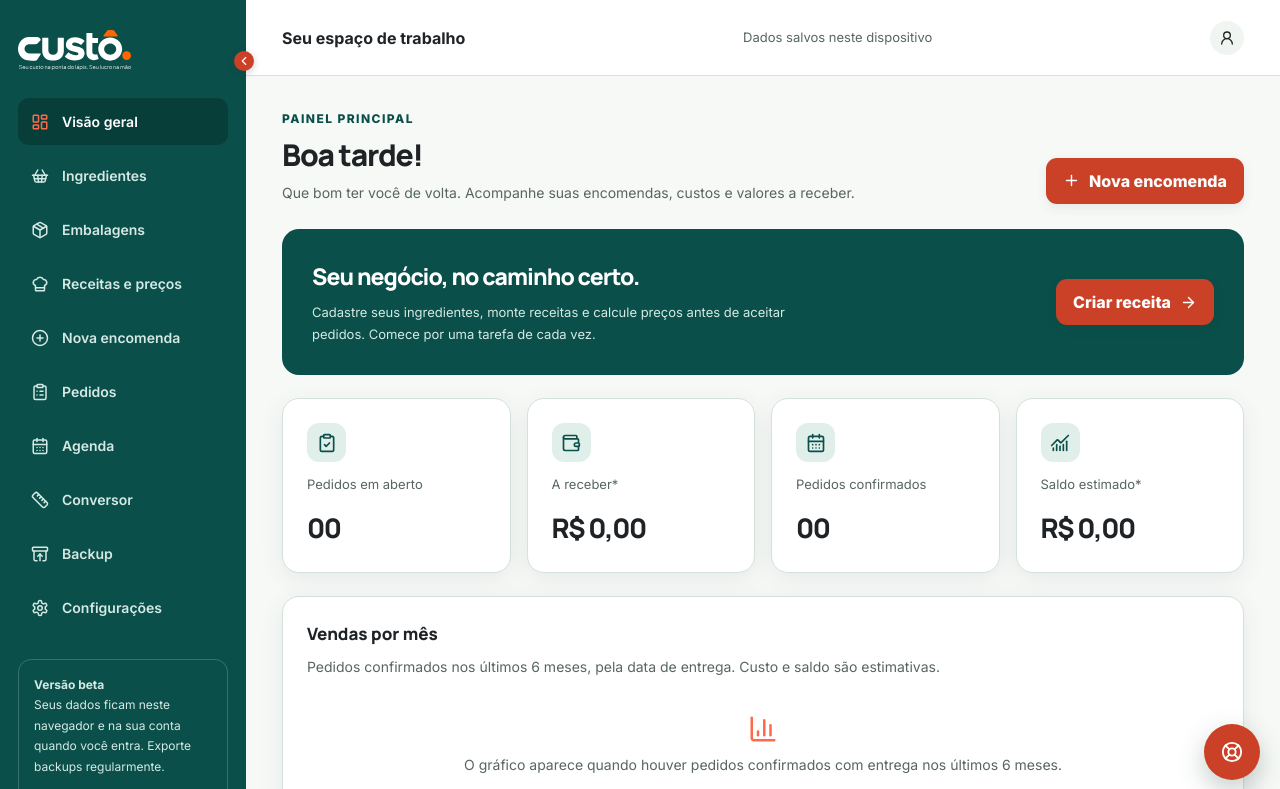
Test: Ingredientes › o botão ⋯ abre Editar/Excluir; Editar abre o formulário com os dados; Esc fecha o menu
Step 1. Click the button "Ingredientes" → (123, 176), box [18,152,228,199]
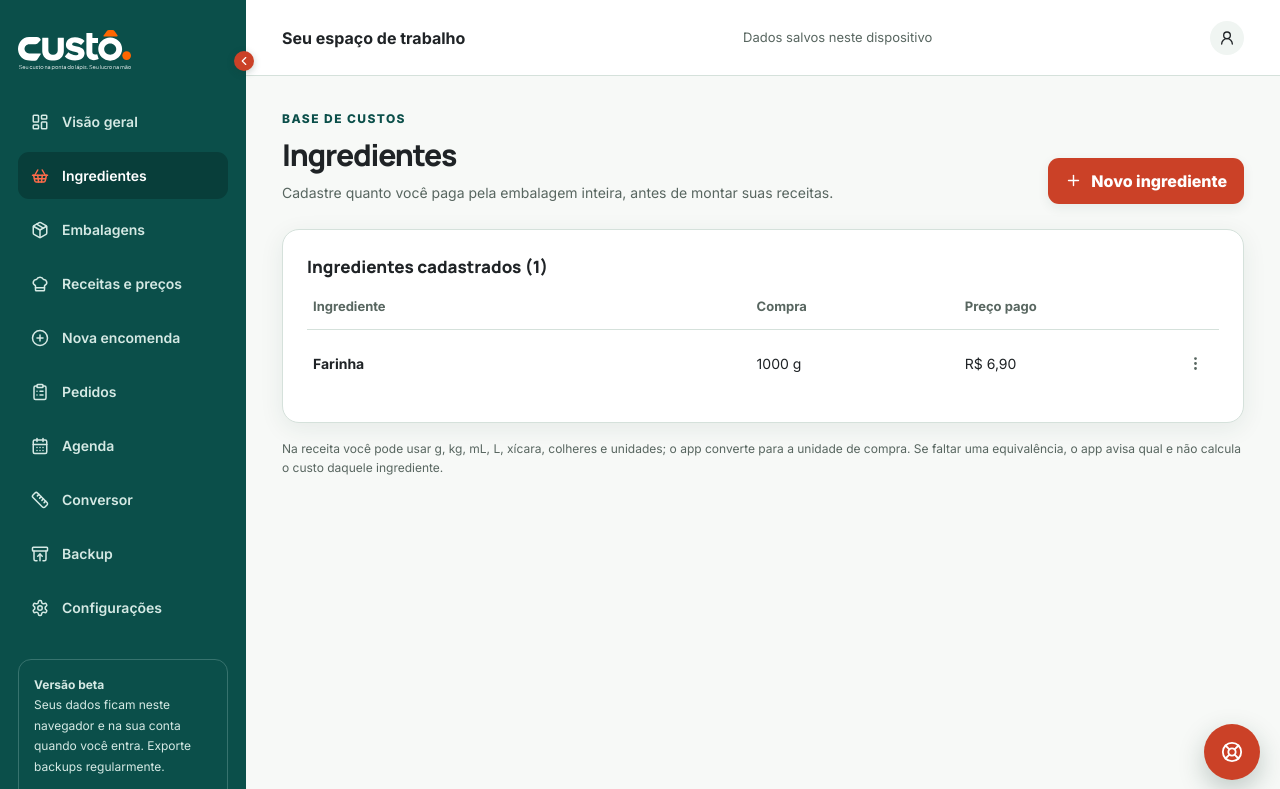
Step 2. Click the button named "Ações de Farinha" → (1195, 364), box [1177,342,1213,386]
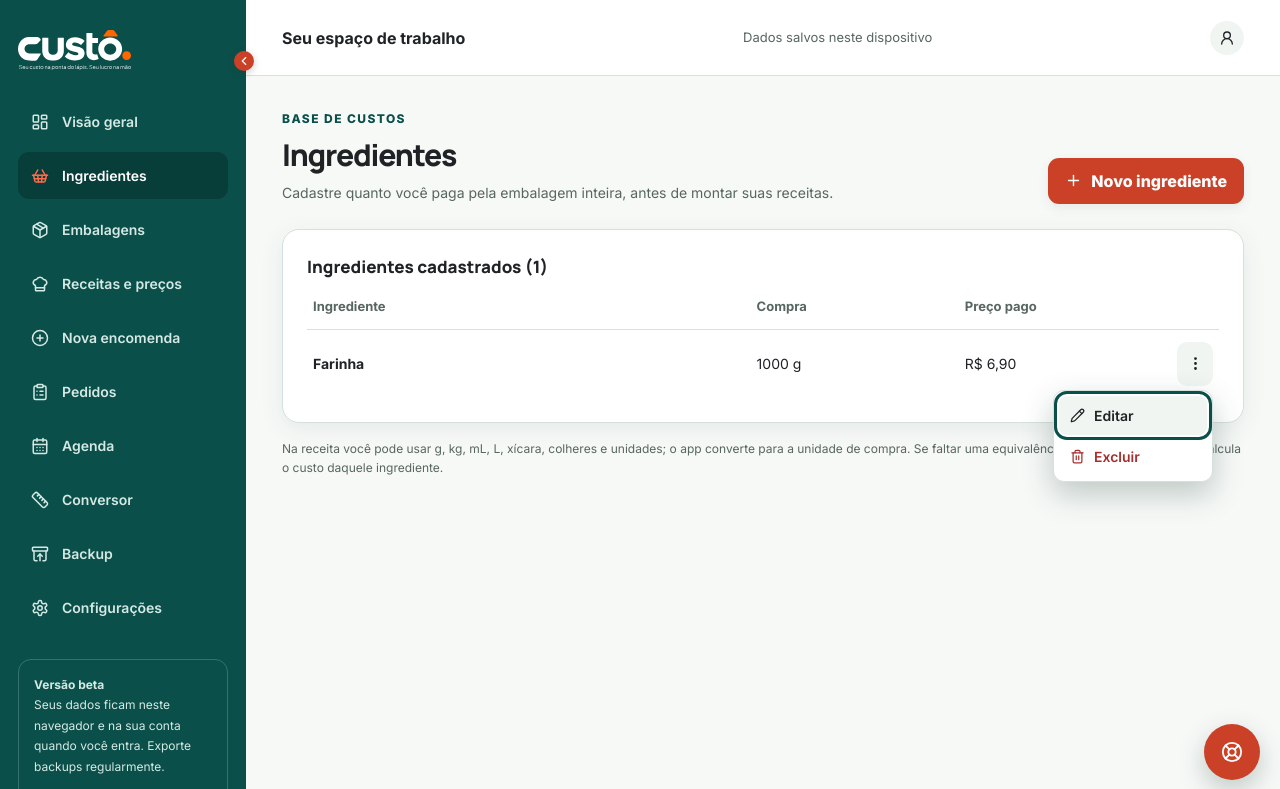
Check: the menu named "Ações de Farinha" is shown, box [1053,390,1213,482]
Step 3. Press Escape
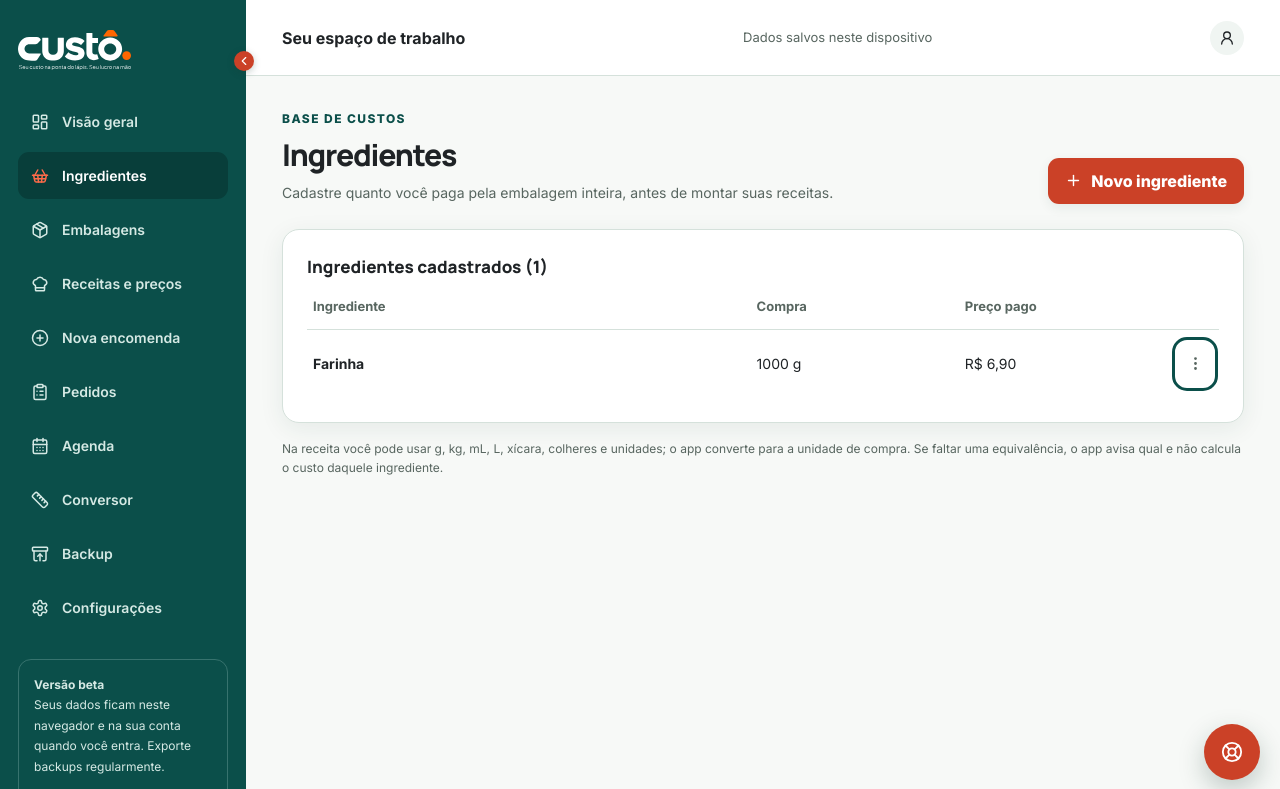
Check: the menu is gone
Step 4. Click the button named "Ações de Farinha" → (1195, 364), box [1177,342,1213,386]
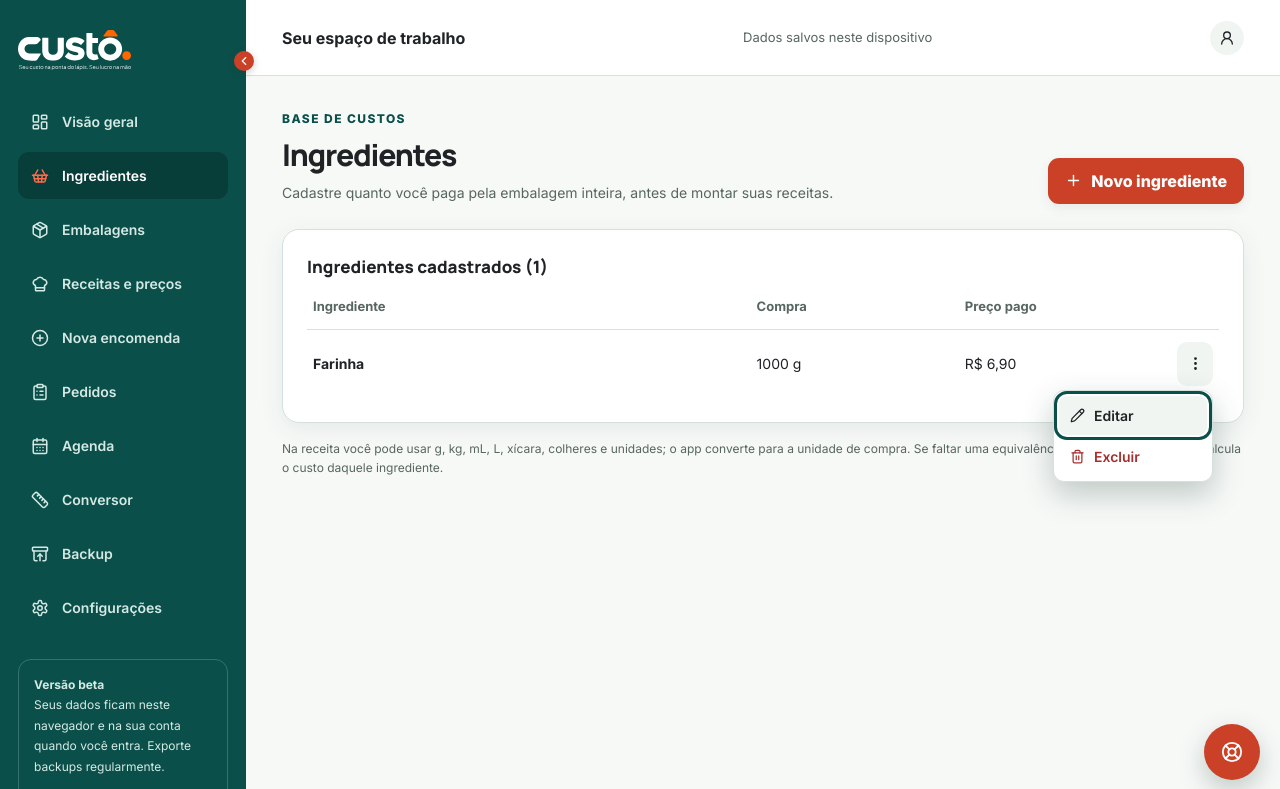
Step 5. Click the menu item with aria-label "Editar Farinha" → (1133, 415), box [1059,396,1207,435]
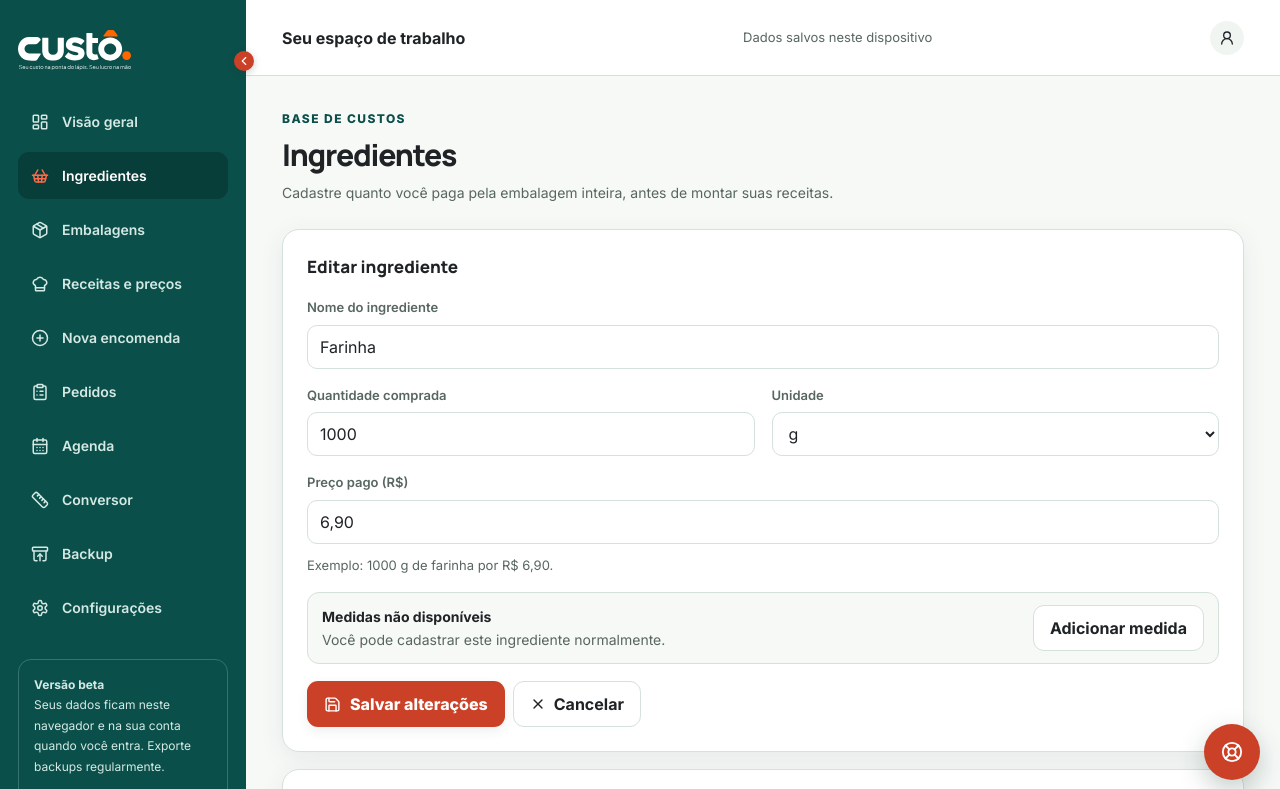
Check: the field labelled "Nome do ingrediente" holds "Farinha", box [307,325,1219,369]
Step 6. Click the button "Cancelar" → (577, 704), box [513,681,641,727]
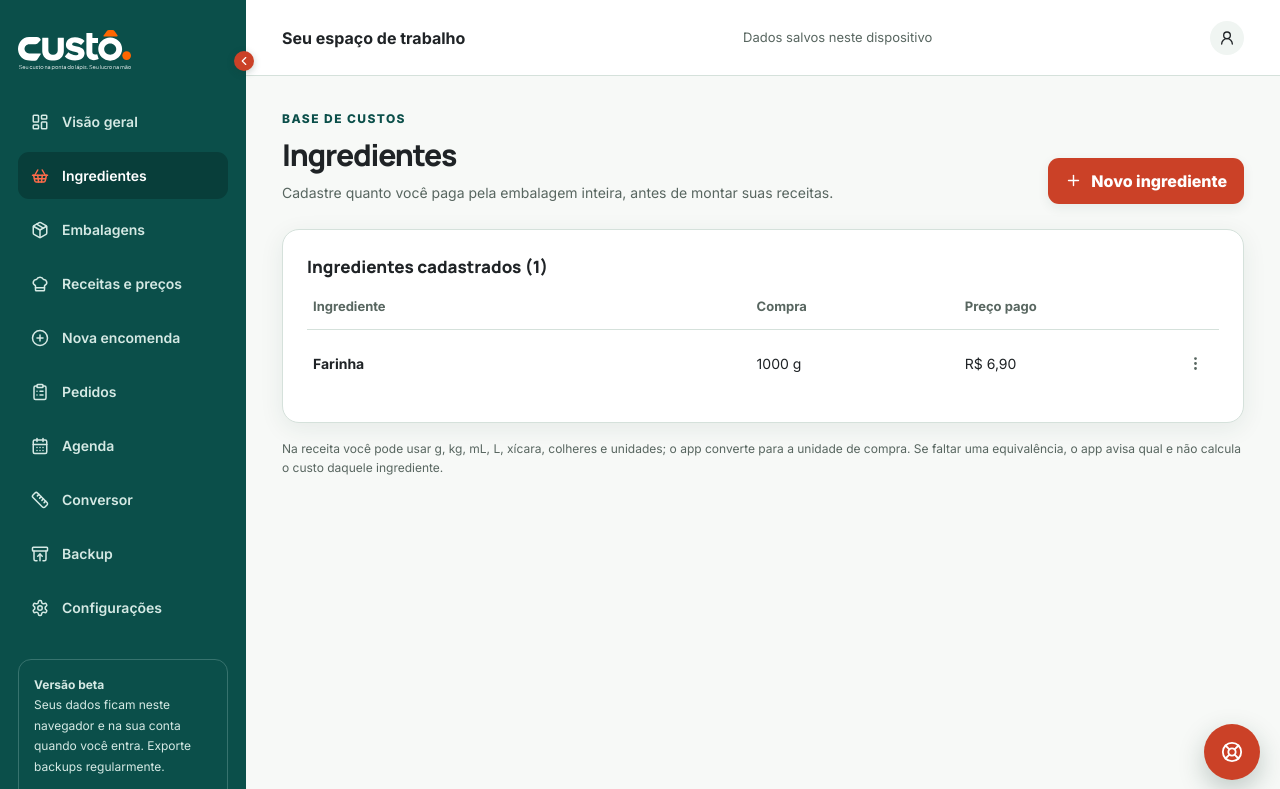
Check: the label labelled "Nome do ingrediente" is gone
